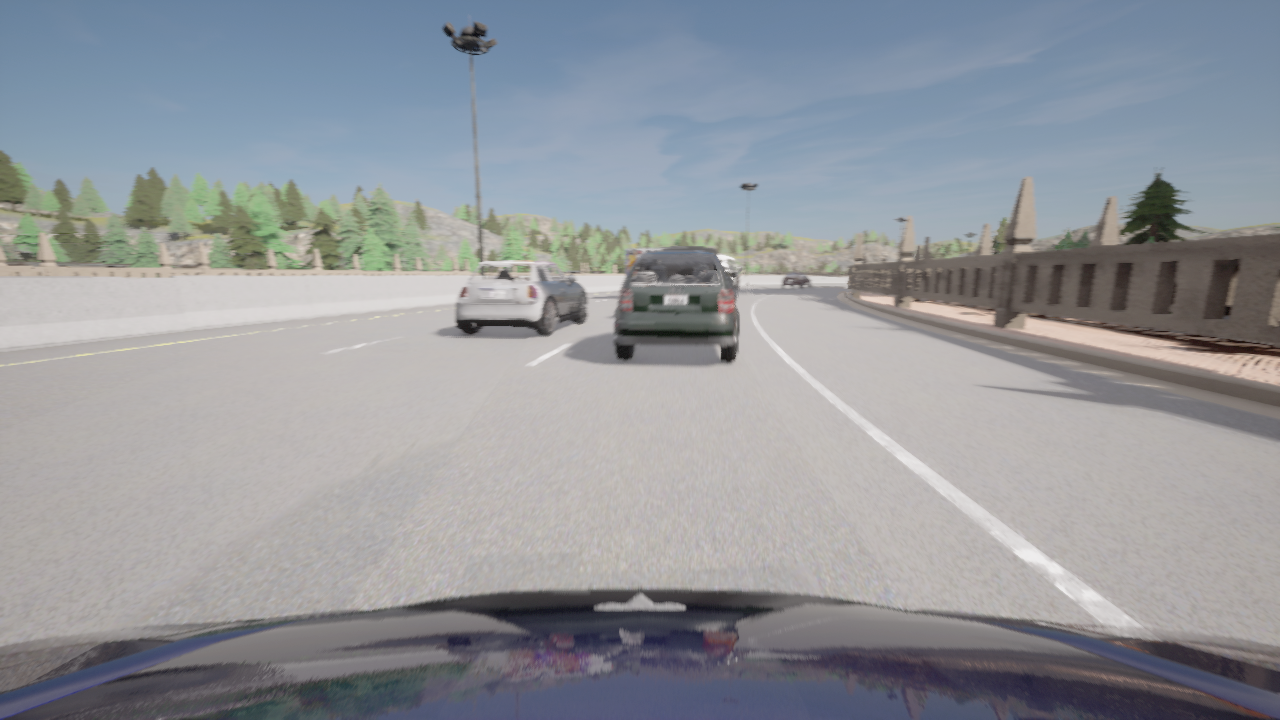cyclist: (0, 588, 1279, 719), (613, 250, 738, 361), (456, 261, 586, 335), (663, 247, 724, 271), (717, 253, 742, 300), (626, 247, 667, 275), (781, 272, 811, 288)
